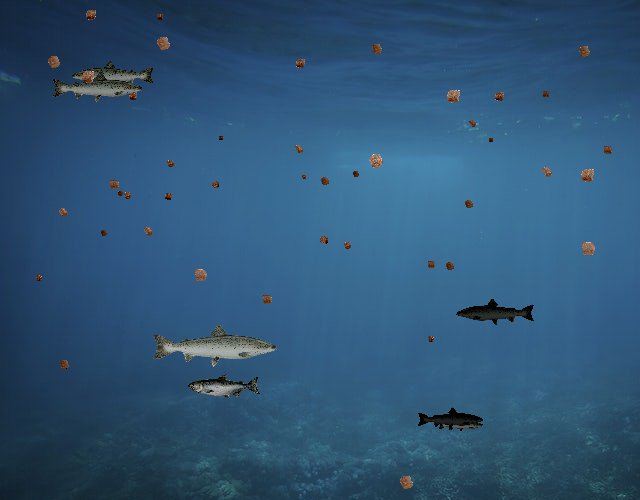Fish: (150, 322, 279, 368), (51, 71, 145, 105), (70, 59, 156, 90), (456, 297, 537, 327), (189, 373, 262, 400), (416, 407, 484, 431), (438, 416, 485, 433)
Pellet: (439, 83, 468, 112), (573, 161, 601, 189), (572, 40, 596, 64), (290, 54, 311, 75), (459, 195, 478, 214), (339, 237, 356, 254), (423, 332, 438, 346), (32, 271, 46, 285)
